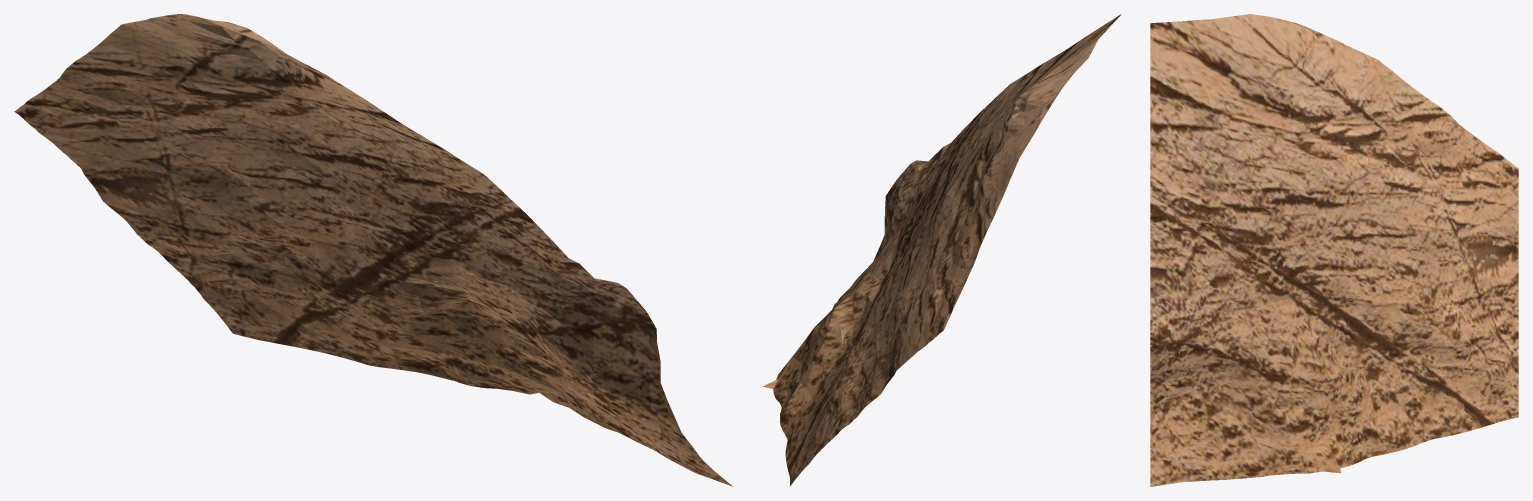
The picture shows the model from 3 angles, left to right: view 1: azimuth 30°, elevation 25°; view 2: azimuth 150°, elevation 25°; view 3: azimuth 270°, elevation 25°; orthographic projection. The views are drawn at different scales.
Size of the model in its own units: 0.9341 by 1.04 by 1.04.
3 materials, 3 textured.
